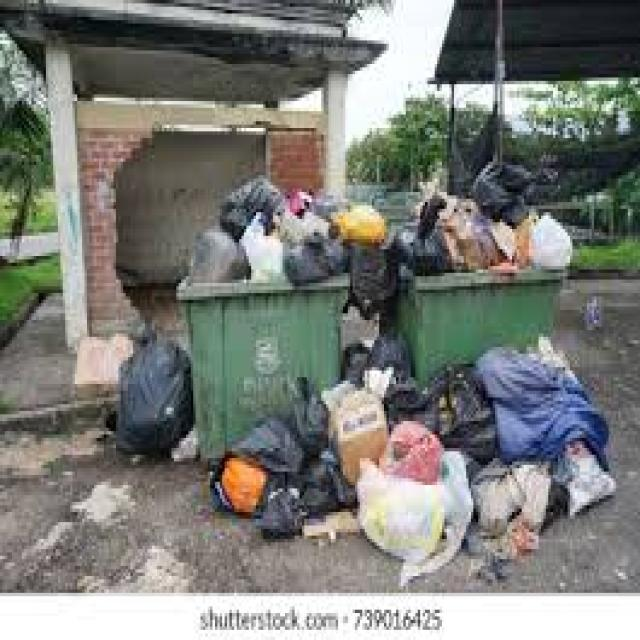bin_full: (182, 182, 348, 427), (388, 187, 565, 368)
bulk_waste: (492, 363, 609, 457), (478, 468, 560, 574), (188, 228, 266, 322), (303, 186, 408, 252), (332, 384, 394, 457), (451, 204, 500, 271)
normal_waste: (206, 379, 310, 531), (111, 328, 200, 450), (351, 466, 448, 572), (407, 363, 497, 442), (276, 440, 338, 532), (529, 215, 592, 292), (345, 331, 413, 402), (561, 445, 608, 536), (348, 249, 402, 316), (392, 218, 444, 284), (245, 232, 295, 298), (391, 420, 439, 482), (488, 158, 526, 220), (228, 183, 280, 227), (293, 241, 332, 283)
